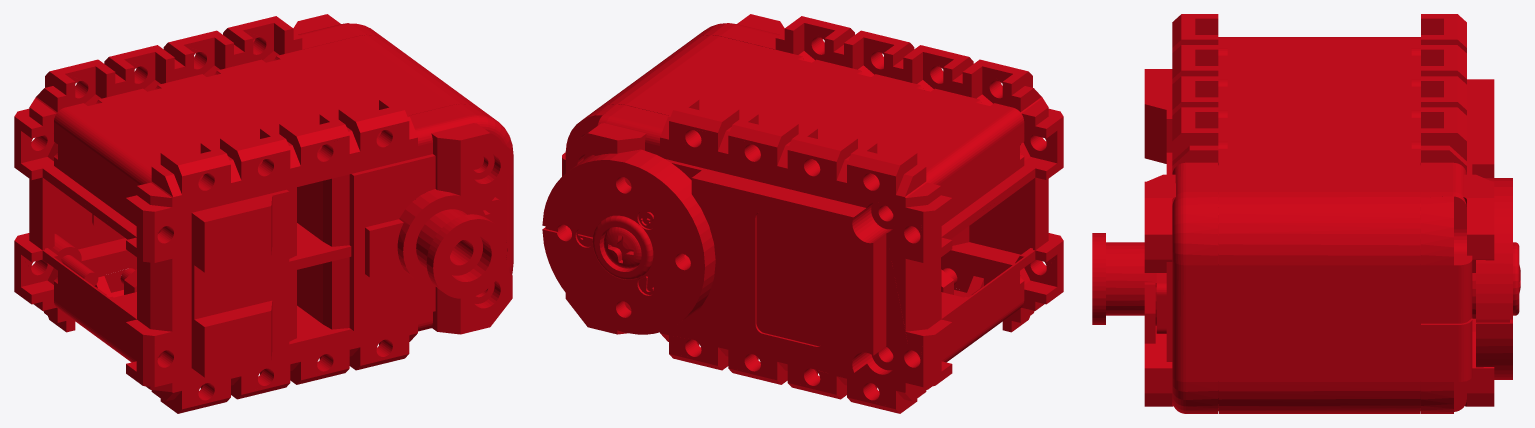
File: brazo4.dae
The picture shows the model from 3 angles, left to right: view 1: azimuth 30°, elevation 25°; view 2: azimuth 150°, elevation 25°; view 3: azimuth 270°, elevation 25°; orthographic projection. The views are drawn at different scales.
Visible parts, largest first — view 1: link5; view 2: link5; view 3: link5.
Boxes of the visible parts, bbox=[...] form: link5: bbox=[14, 14, 513, 413]; link5: bbox=[542, 14, 1063, 413]; link5: bbox=[1092, 14, 1520, 413].
Bounding box in the file's own units: 0.05 × 0.0466 × 0.032.
